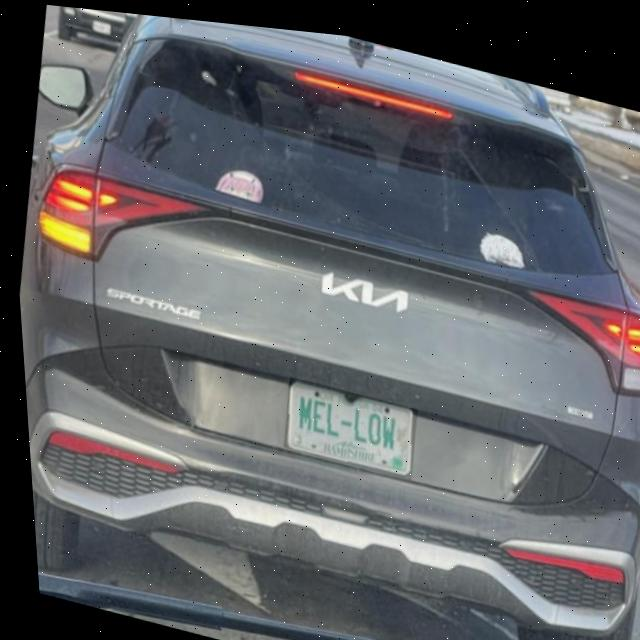LicensePlate: (281, 374, 410, 469)
